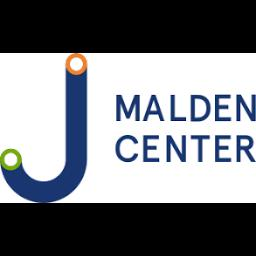a: (142, 92, 166, 124)
c: (112, 130, 140, 164)
d: (188, 91, 212, 125)
e: (212, 92, 232, 122)
j: (0, 53, 96, 203)
l: (168, 93, 188, 125)
m: (110, 90, 142, 126)
n: (163, 131, 189, 167), (234, 94, 256, 124)
r: (234, 132, 256, 166)
t: (189, 134, 211, 164)
